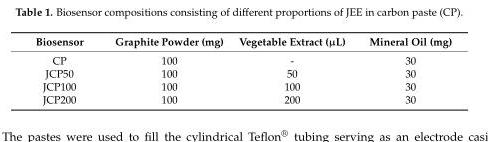table: (34, 34, 451, 105)
table column: (98, 34, 230, 105), (230, 34, 356, 105), (356, 34, 451, 105), (34, 34, 98, 105)
table column header: (34, 34, 451, 50)
table row: (34, 34, 451, 50), (34, 50, 451, 66), (34, 66, 451, 79), (34, 79, 451, 92), (34, 92, 451, 105)
